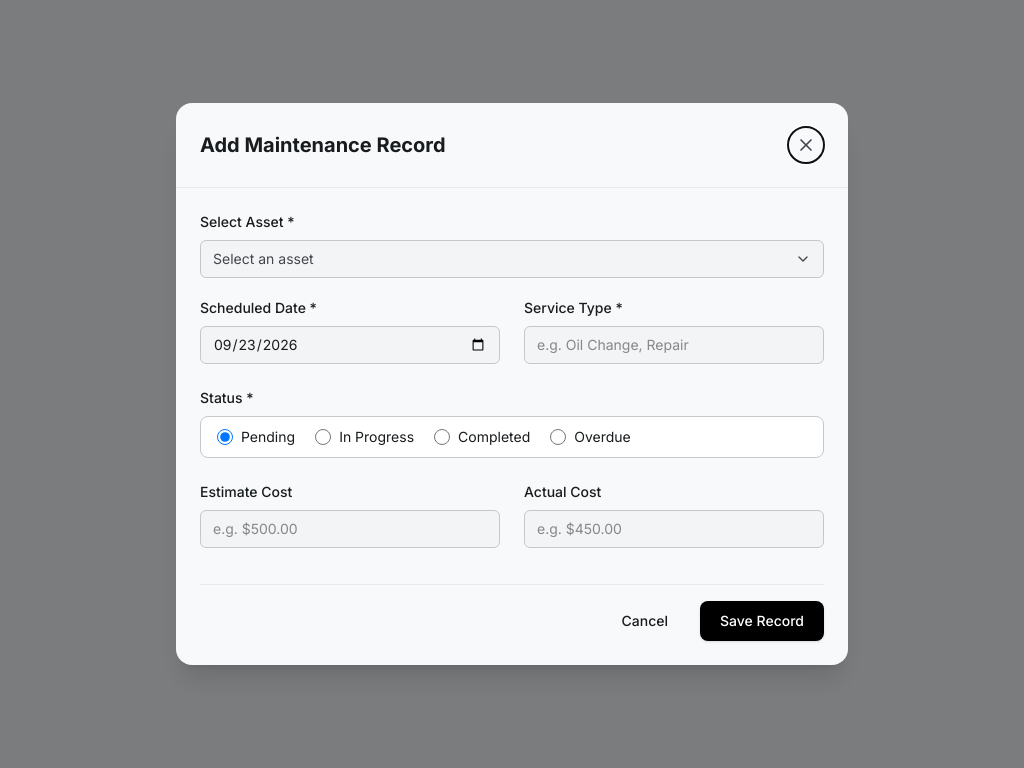
AddMaintenanceModal — asset picker › shows the empty-state copy when nothing matches
Click the button "Select an asset" at {"x": 263, "y": 258}, box [200,240,824,278]
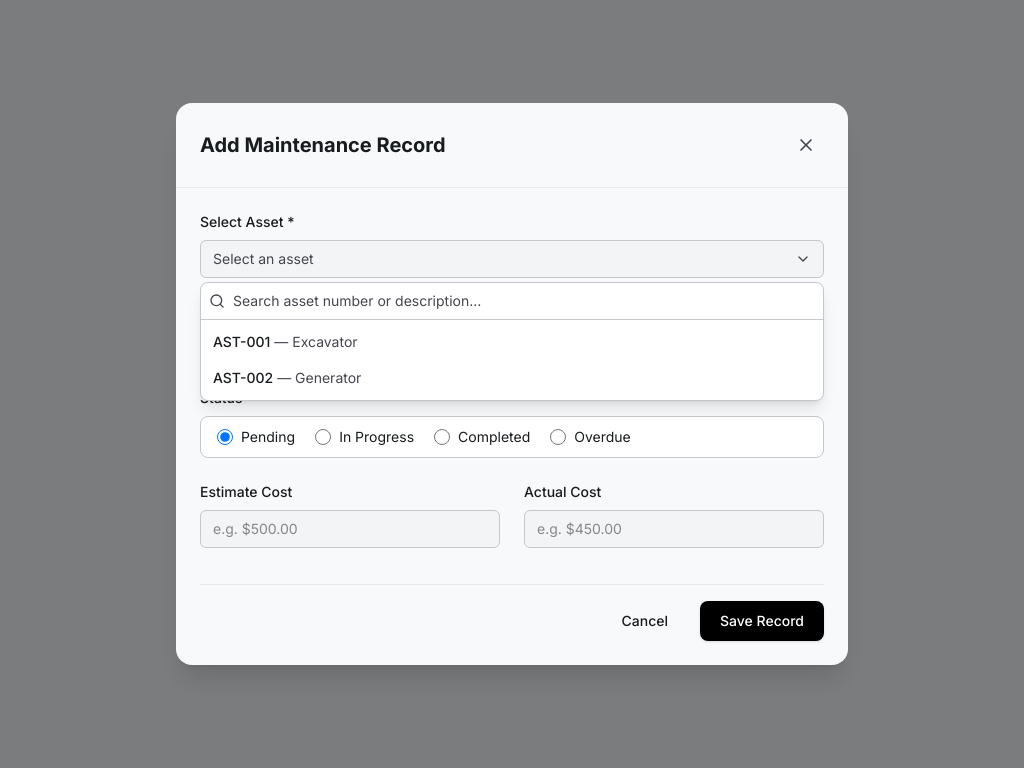
Type "zzzz" into the field with placeholder "Search asset number or description..." at {"x": 524, "y": 301}, box [233,291,815,311]
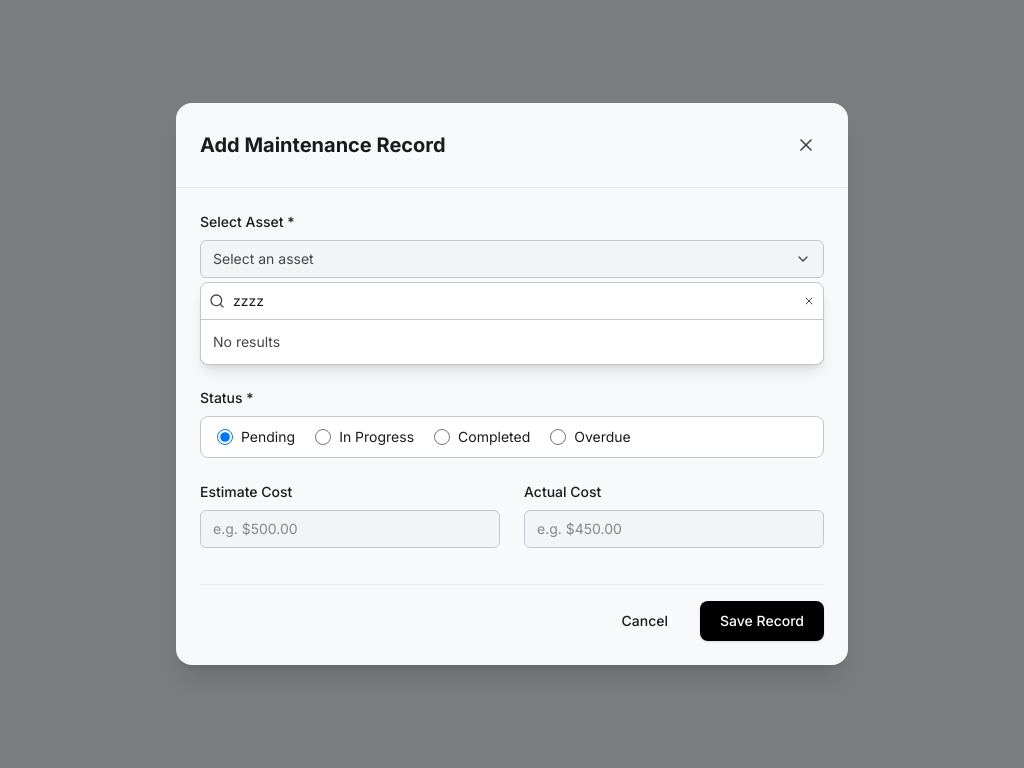
expect the list item "No results" is shown: met, box [213,333,280,350]
